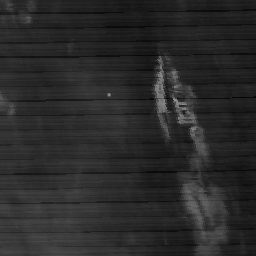Target: (106, 93, 111, 98)
